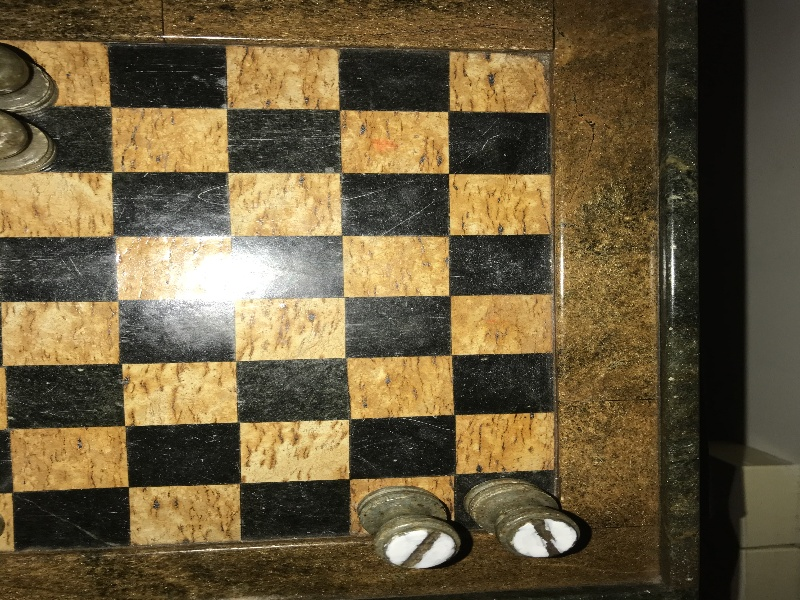WhiteRook: (464, 478, 579, 558), (359, 487, 459, 570)
